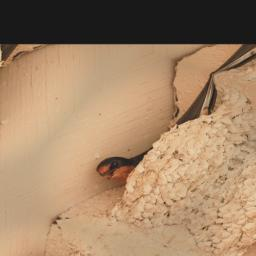Swallow: (89, 63, 243, 196)
